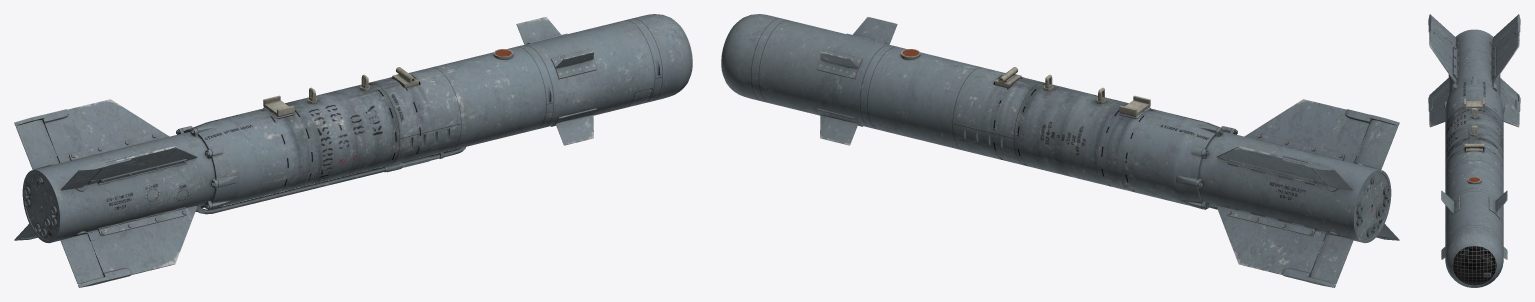
The model's file is kab500kr.glb.
The picture shows the model from 3 angles, left to right: view 1: azimuth 30°, elevation 25°; view 2: azimuth 150°, elevation 25°; view 3: azimuth 270°, elevation 25°; orthographic projection. The views are drawn at different scales.
Visible parts, largest first — view 1: Object_3; view 2: Object_3; view 3: Object_3, Object_2, Object_4.
Boxes of the visible parts, x1,y1,x2,y2 form: Object_3: [14, 14, 692, 287]; Object_3: [721, 14, 1399, 287]; Object_3: [1428, 14, 1520, 287]; Object_2: [1453, 246, 1495, 285]; Object_4: [1466, 259, 1479, 271].
Bounding box in the file's own units: 3.06 × 0.5502 × 0.5502.
3 materials, 2 textured.
